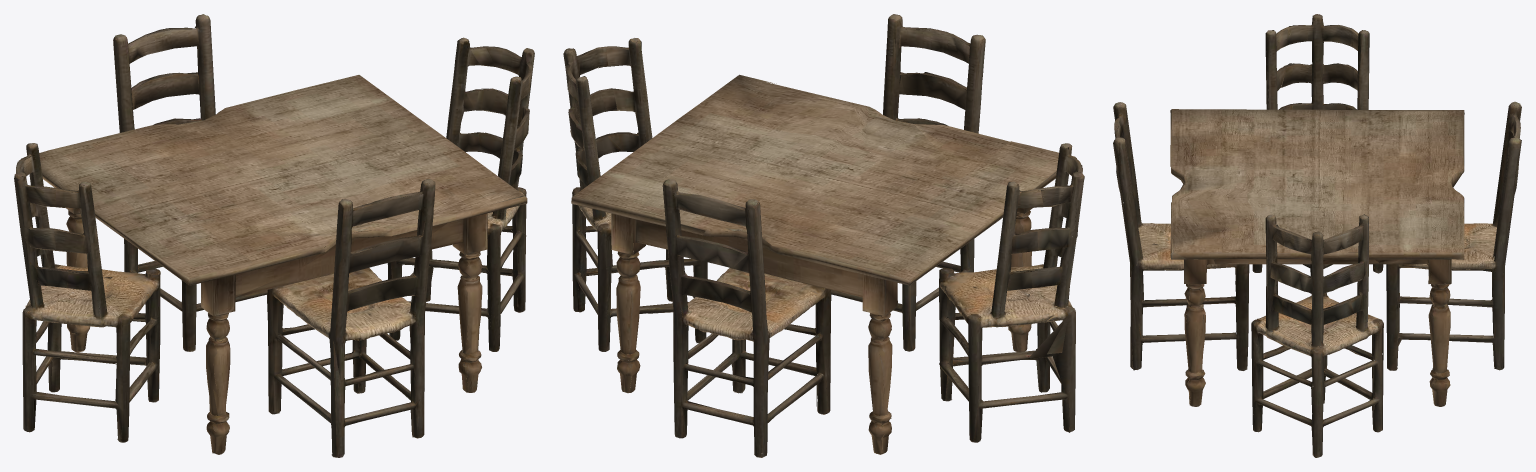
Rendered from table-chairs-set.glb.
3 renders of one model, left to right at view 1: azimuth 30°, elevation 25°; view 2: azimuth 150°, elevation 25°; view 3: azimuth 270°, elevation 25°, orthographic. The views are drawn at different scales.
Parts seen in each view (by area): view 1: Mesh_0; view 2: Mesh_0; view 3: Mesh_0.
Boxes of the visible parts, x1,y1,x2,y2 form: Mesh_0: [14, 14, 534, 457]; Mesh_0: [563, 14, 1084, 457]; Mesh_0: [1113, 14, 1521, 457].
Size of the model in its own units: 1.9 by 0.9224 by 1.48.
1 material, 1 textured.
